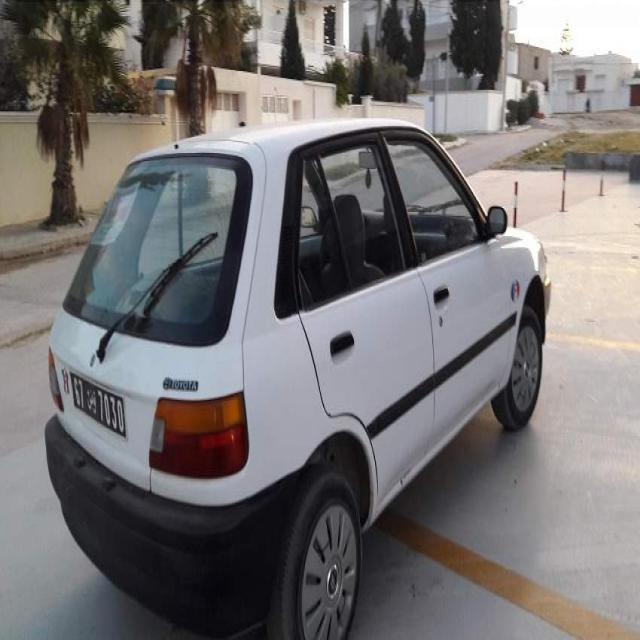licence plate: (71, 373, 125, 438)
